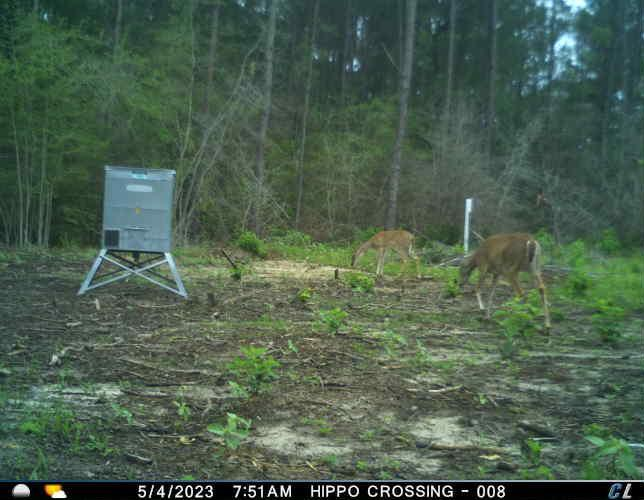Deer: (456, 229, 553, 336), (349, 226, 423, 281)
